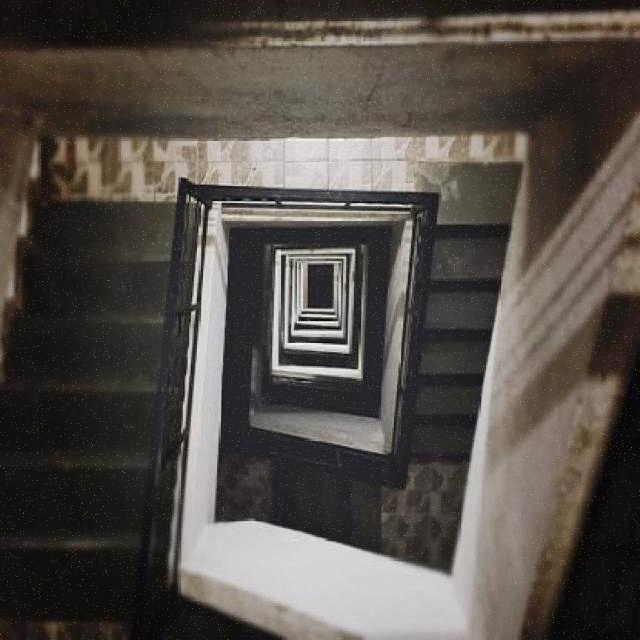stair: (1, 137, 222, 638), (392, 177, 559, 486)
